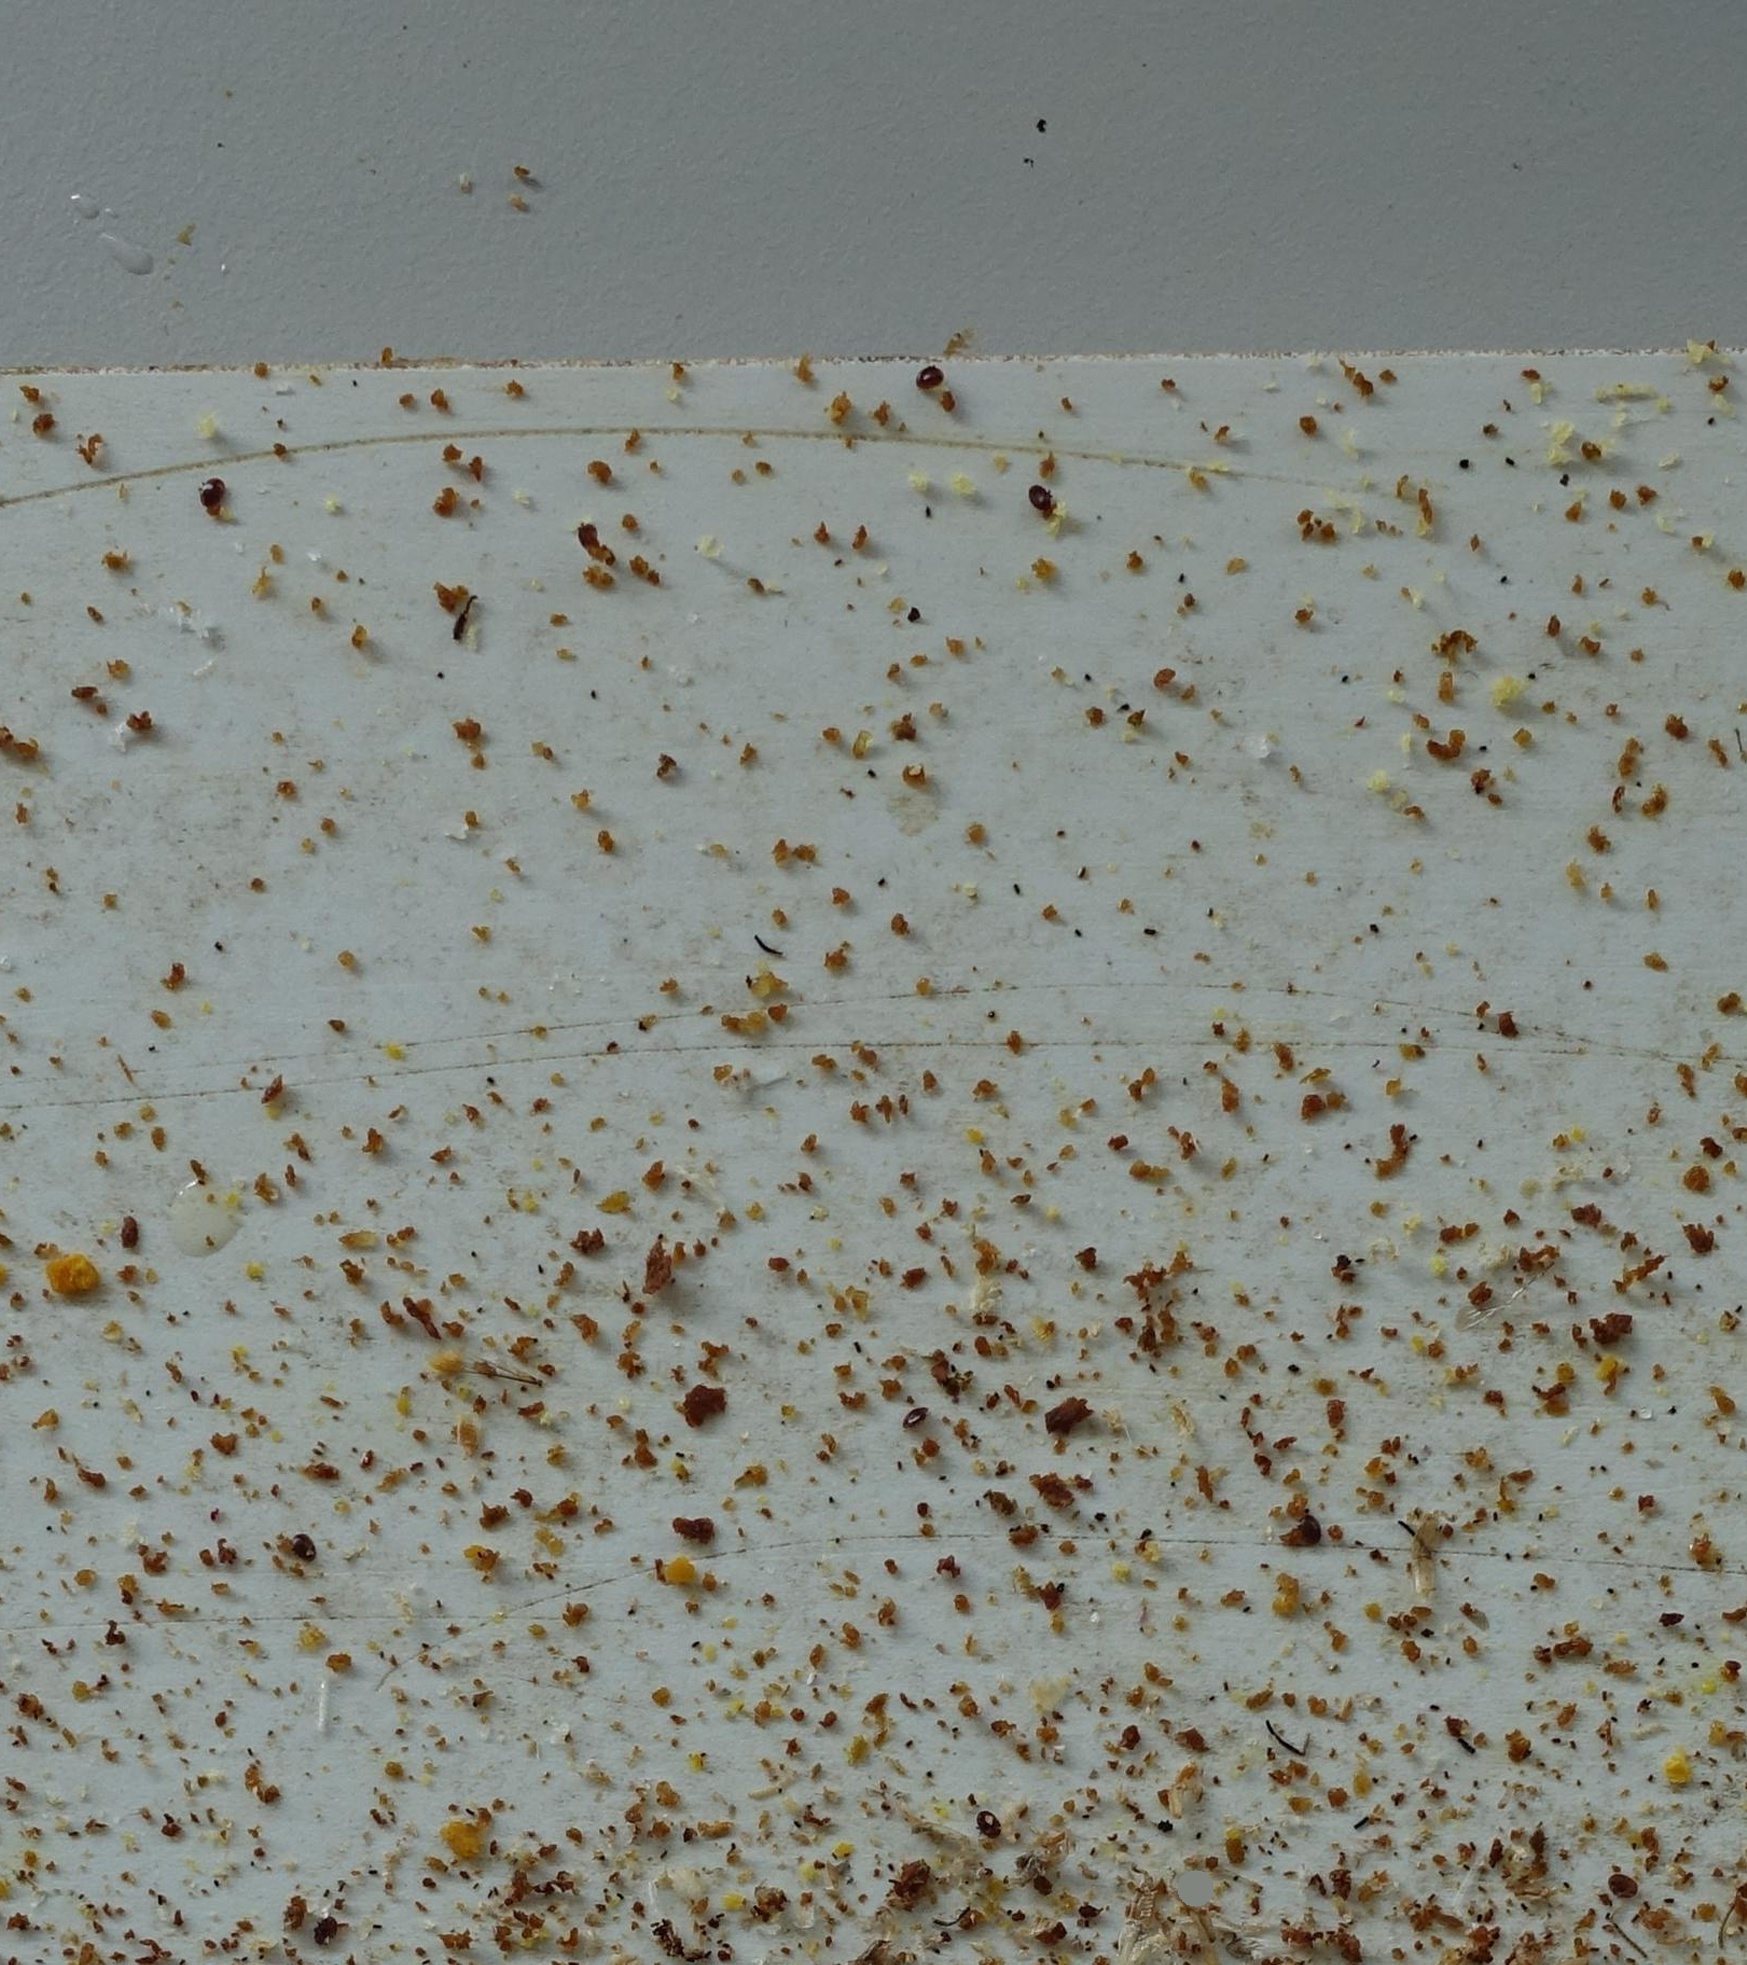Varroa: (895, 1397, 936, 1437), (1292, 1511, 1320, 1540), (966, 1813, 997, 1840), (314, 1916, 341, 1946), (201, 476, 226, 503), (1025, 487, 1052, 511), (1610, 1874, 1636, 1898), (295, 1542, 314, 1564), (921, 364, 939, 385)
